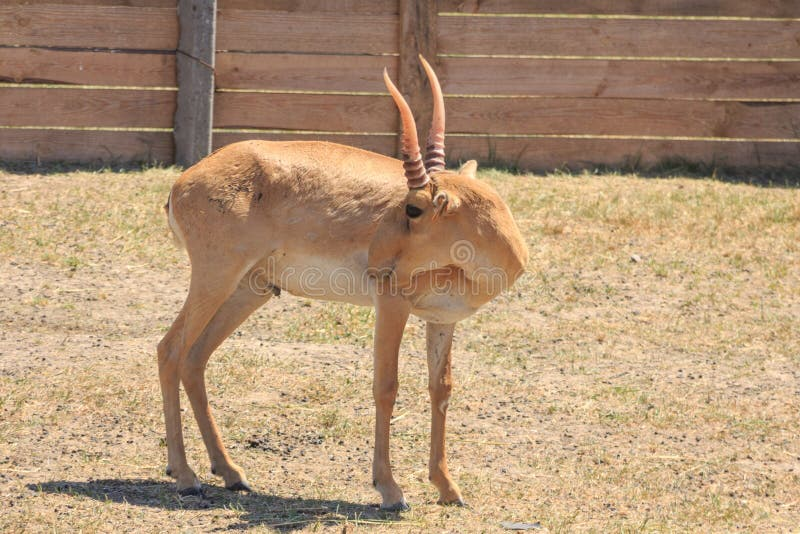saiga: (142, 53, 530, 511)
